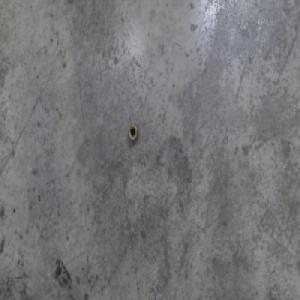Nut: (127, 123, 139, 143)
